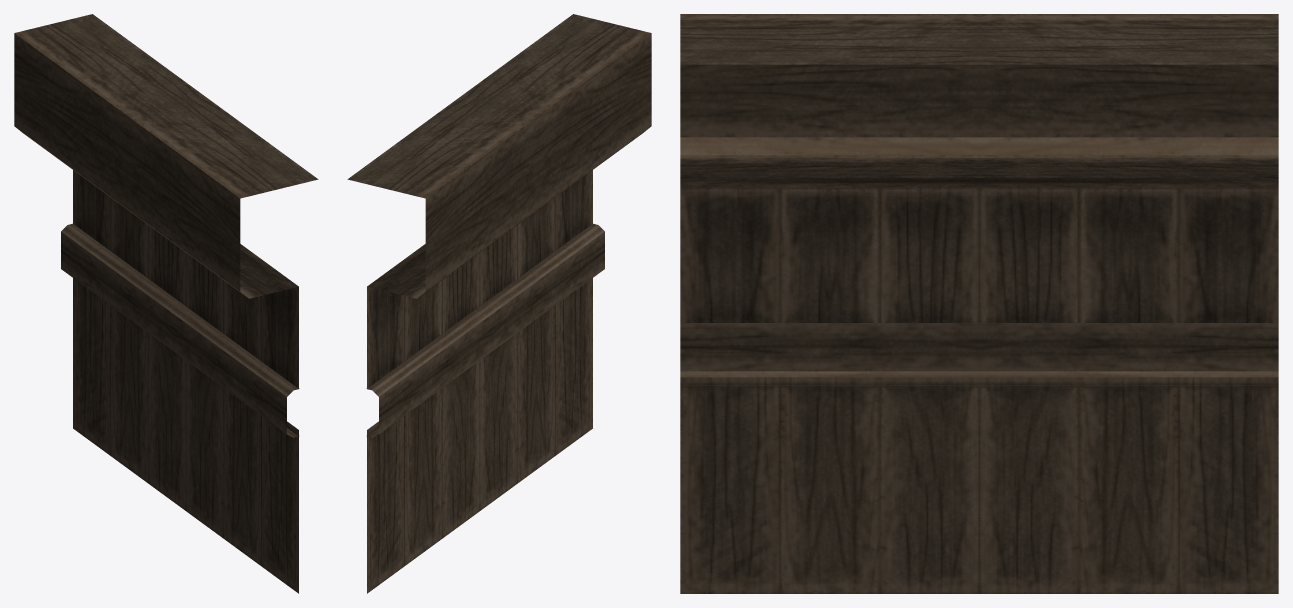
Rendered from Wall Interior Top 2x2 Wood B.fbx.
3 renders of one model, left to right at view 1: azimuth 30°, elevation 25°; view 2: azimuth 150°, elevation 25°; view 3: azimuth 270°, elevation 25°, orthographic. The views are drawn at different scales.
Visible parts, largest first — view 1: Wall Interior Top 2x2 Wood B; view 2: Wall Interior Top 2x2 Wood B; view 3: Wall Interior Top 2x2 Wood B.
Part boxes in pixels (x1=…): Wall Interior Top 2x2 Wood B: x1=14, y1=14, x2=318, y2=593; Wall Interior Top 2x2 Wood B: x1=347, y1=14, x2=651, y2=593; Wall Interior Top 2x2 Wood B: x1=680, y1=14, x2=1278, y2=593.
Size of the model in its own units: 0.4 by 2 by 2.
